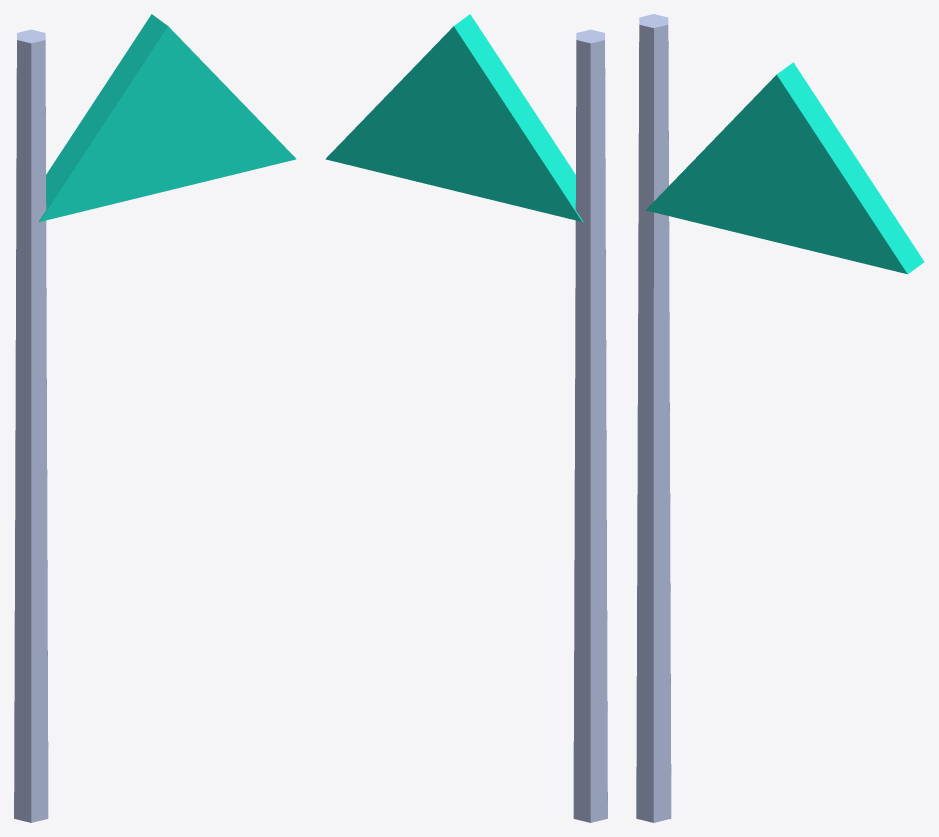
Rendered from checkpoint_flag.obj.
3 views of the same model, side by side, from view 1: azimuth 30°, elevation 25°; view 2: azimuth 150°, elevation 25°; view 3: azimuth 330°, elevation 25° (orthographic).
Visible parts, largest first — view 1: flag_cloth, flag_pole; view 2: flag_cloth, flag_pole; view 3: flag_cloth, flag_pole.
Boxes of the visible parts, <box> form: flag_cloth: <box>39,14,296,221</box>; flag_pole: <box>14,29,48,822</box>; flag_cloth: <box>325,14,582,221</box>; flag_pole: <box>573,29,607,822</box>; flag_cloth: <box>646,62,924,274</box>; flag_pole: <box>636,14,671,822</box>.
Size of the model in its own units: 0.96 by 2.6 by 0.104.
